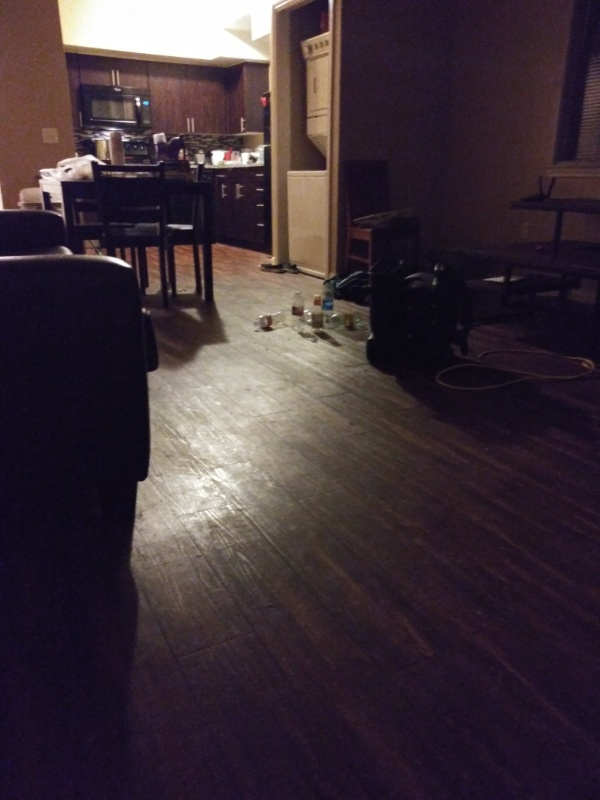bottle: (323, 310, 366, 332), (309, 291, 326, 335), (287, 289, 306, 328), (251, 310, 288, 329), (320, 278, 336, 316)
